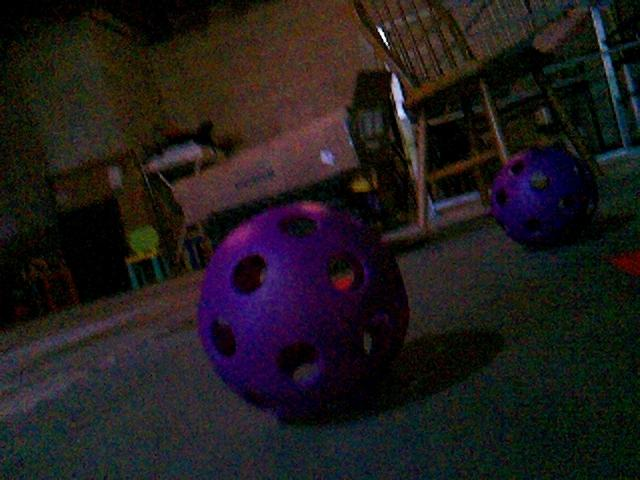Purple: (193, 200, 413, 421), (486, 145, 601, 249)
